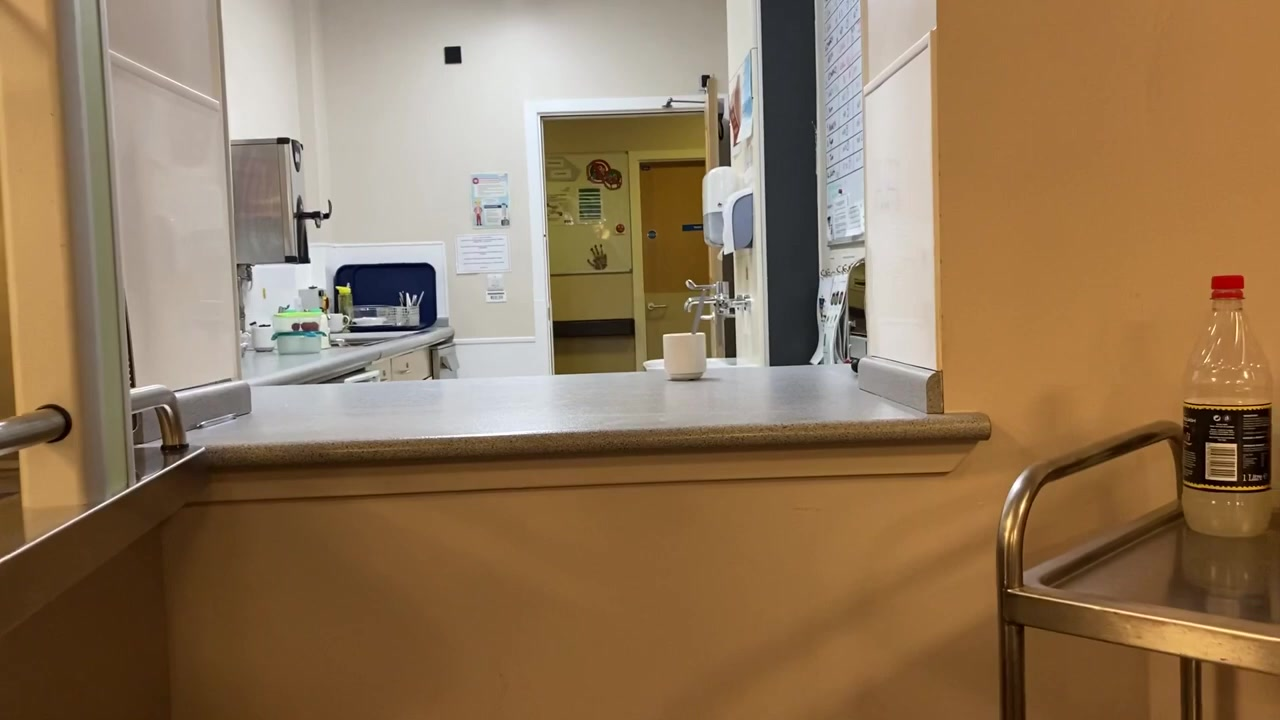chair: (332, 261, 438, 332)
countertop: (117, 362, 945, 464), (240, 325, 454, 382)
dispenser: (701, 165, 747, 248), (721, 185, 755, 255)
door_handle: (649, 303, 668, 311)
faucet: (682, 277, 752, 321)
handle: (398, 364, 421, 376)
sink: (642, 357, 765, 372), (322, 330, 425, 346)
utility_cart: (996, 418, 1280, 720)
